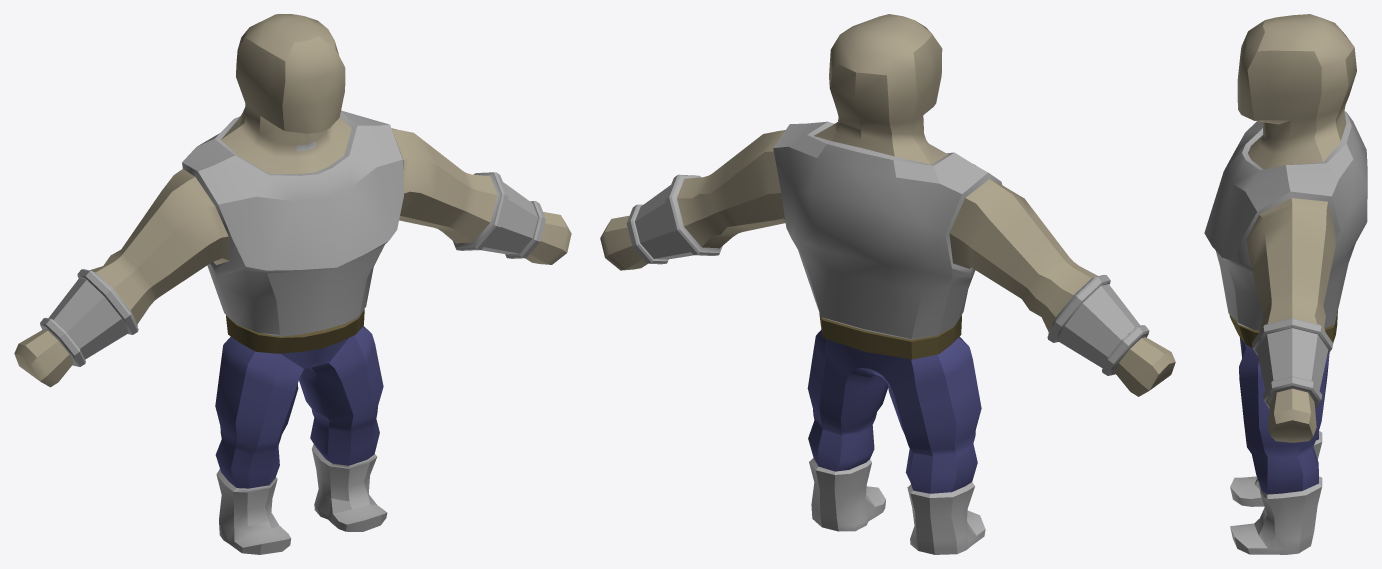
Rendered from Warrior_PlaceHolder.fbx.
The picture shows the model from 3 angles, left to right: view 1: azimuth 30°, elevation 25°; view 2: azimuth 150°, elevation 25°; view 3: azimuth 270°, elevation 25°; orthographic projection. The views are drawn at different scales.
Visible parts, largest first — view 1: base_unit; view 2: base_unit; view 3: base_unit.
Part boxes in pixels (x1,y1,x2,y2): base_unit: [14, 14, 571, 554]; base_unit: [600, 14, 1175, 554]; base_unit: [1204, 14, 1367, 554].
Size of the model in its own units: 8.76 by 7.61 by 2.26.
